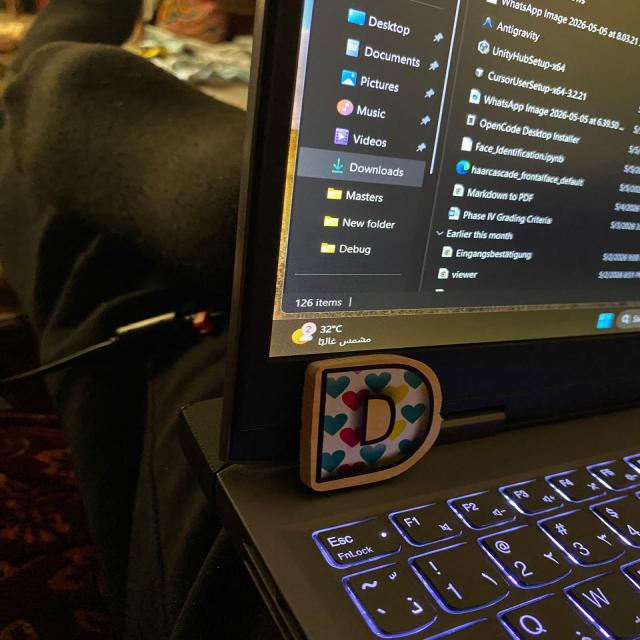D: (301, 356, 441, 490)
